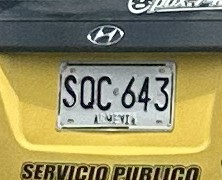number plate: (0, 52, 221, 179)
